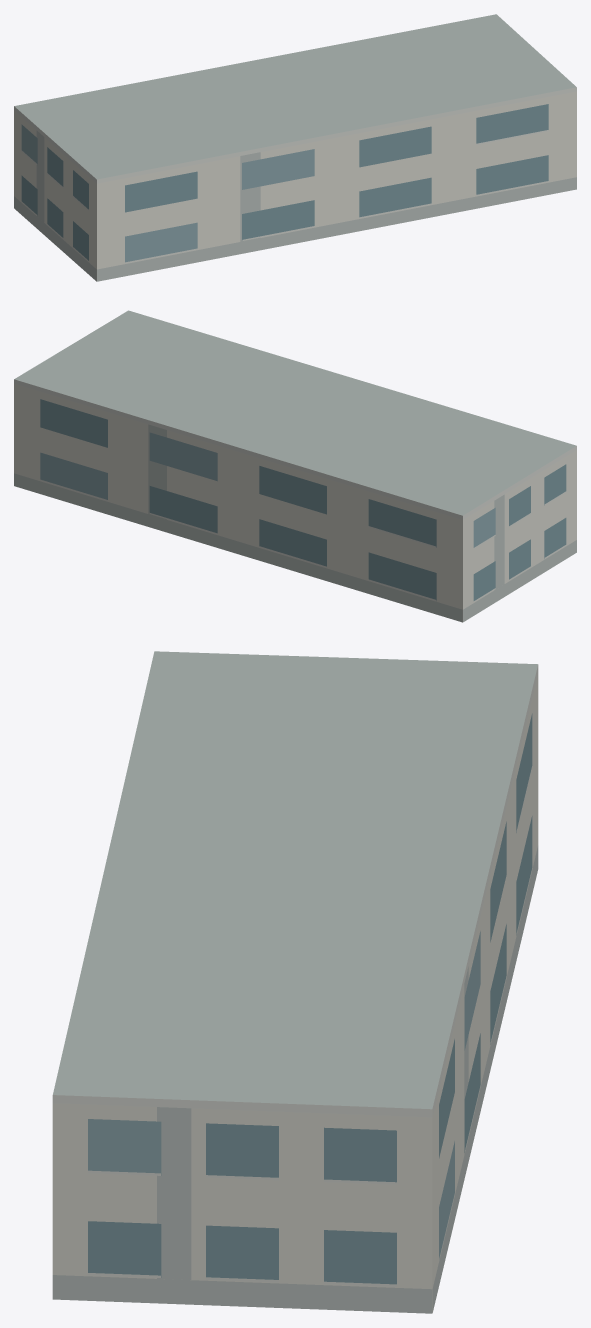
File: survey-upis-32583417.glb
3 views of the same model, one above another, from view 1: azimuth 30°, elevation 25°; view 2: azimuth 150°, elevation 25°; view 3: azimuth 270°, elevation 25° (orthographic). The views are drawn at different scales.
Parts seen in each view (by area): view 1: survey-upis-32583417.tmp; view 2: survey-upis-32583417.tmp; view 3: survey-upis-32583417.tmp.
Part boxes in pixels (x1,y1,x2,y2): survey-upis-32583417.tmp: (14, 14, 576, 281); survey-upis-32583417.tmp: (14, 310, 576, 622); survey-upis-32583417.tmp: (52, 651, 538, 1313).
Bounding box in the file's own units: 29.32 × 6.1 × 13.14.
